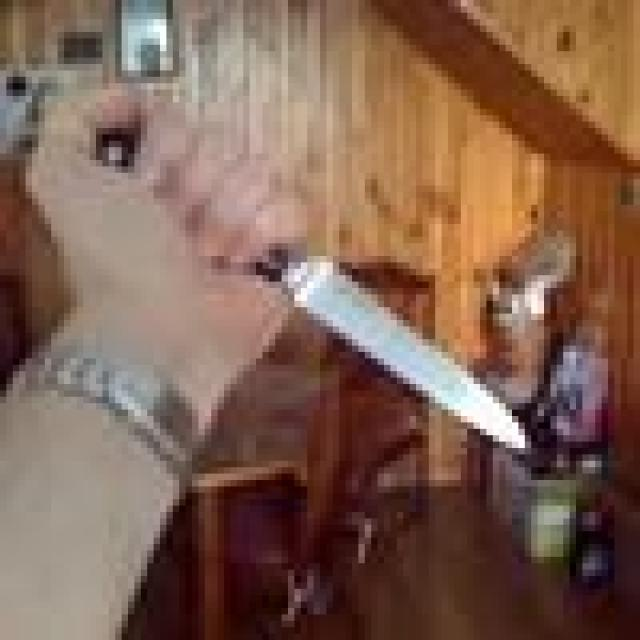knife: (287, 250, 532, 455)
